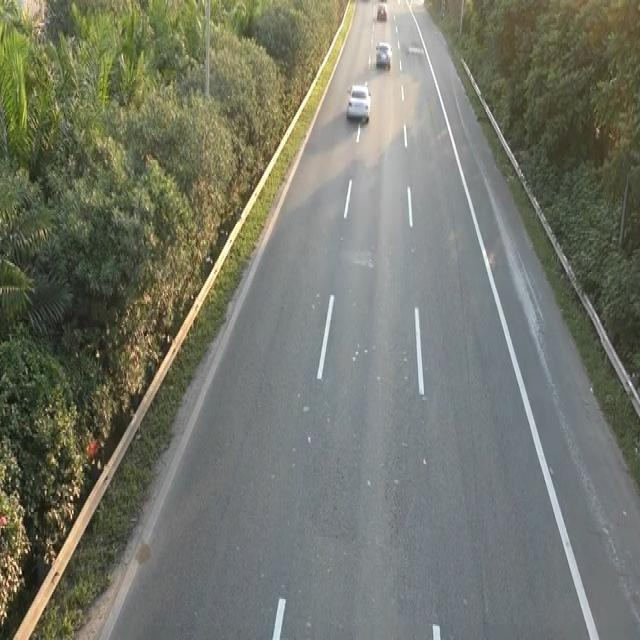bus: (344, 78, 375, 130), (374, 39, 392, 69), (375, 2, 387, 21)
